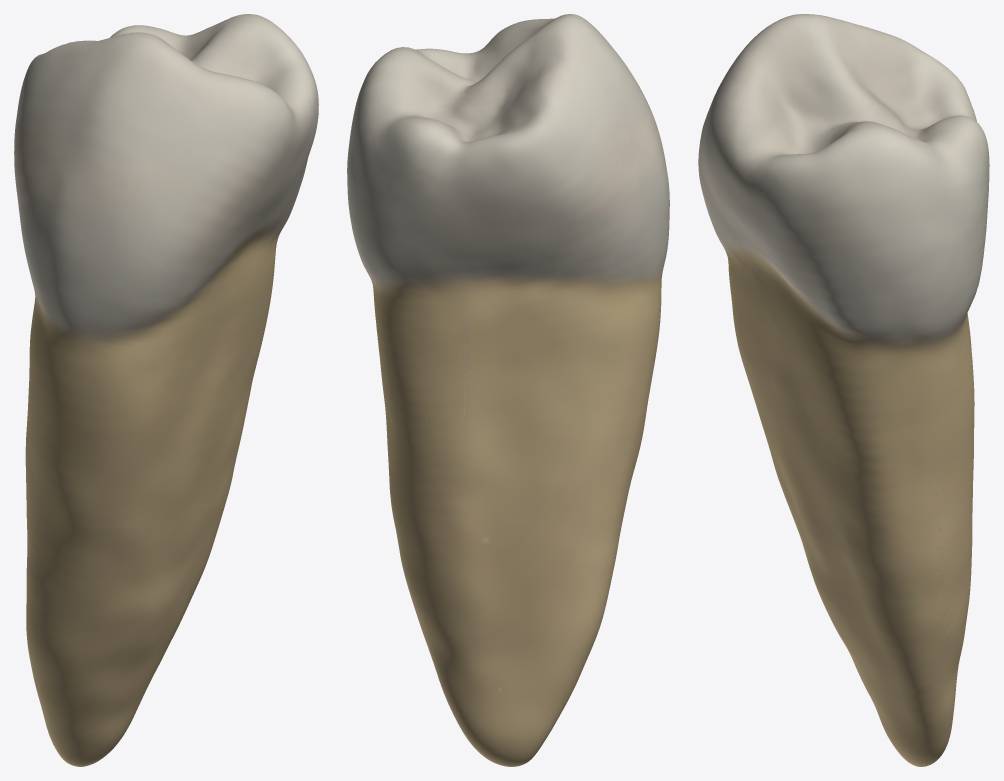
3 views of the same model, side by side, from view 1: azimuth 30°, elevation 25°; view 2: azimuth 150°, elevation 25°; view 3: azimuth 270°, elevation 25° (orthographic). The views are drawn at different scales.
Visible parts, largest first — view 1: diente-45; view 2: diente-45; view 3: diente-45.
Part boxes in pixels (x1,y1,x2,y2): diente-45: (14,14,318,766); diente-45: (347,14,669,766); diente-45: (698,14,989,766).
Size of the model in its own units: 0.00882 by 0.0225 by 0.00796.
1 material, 1 textured.
